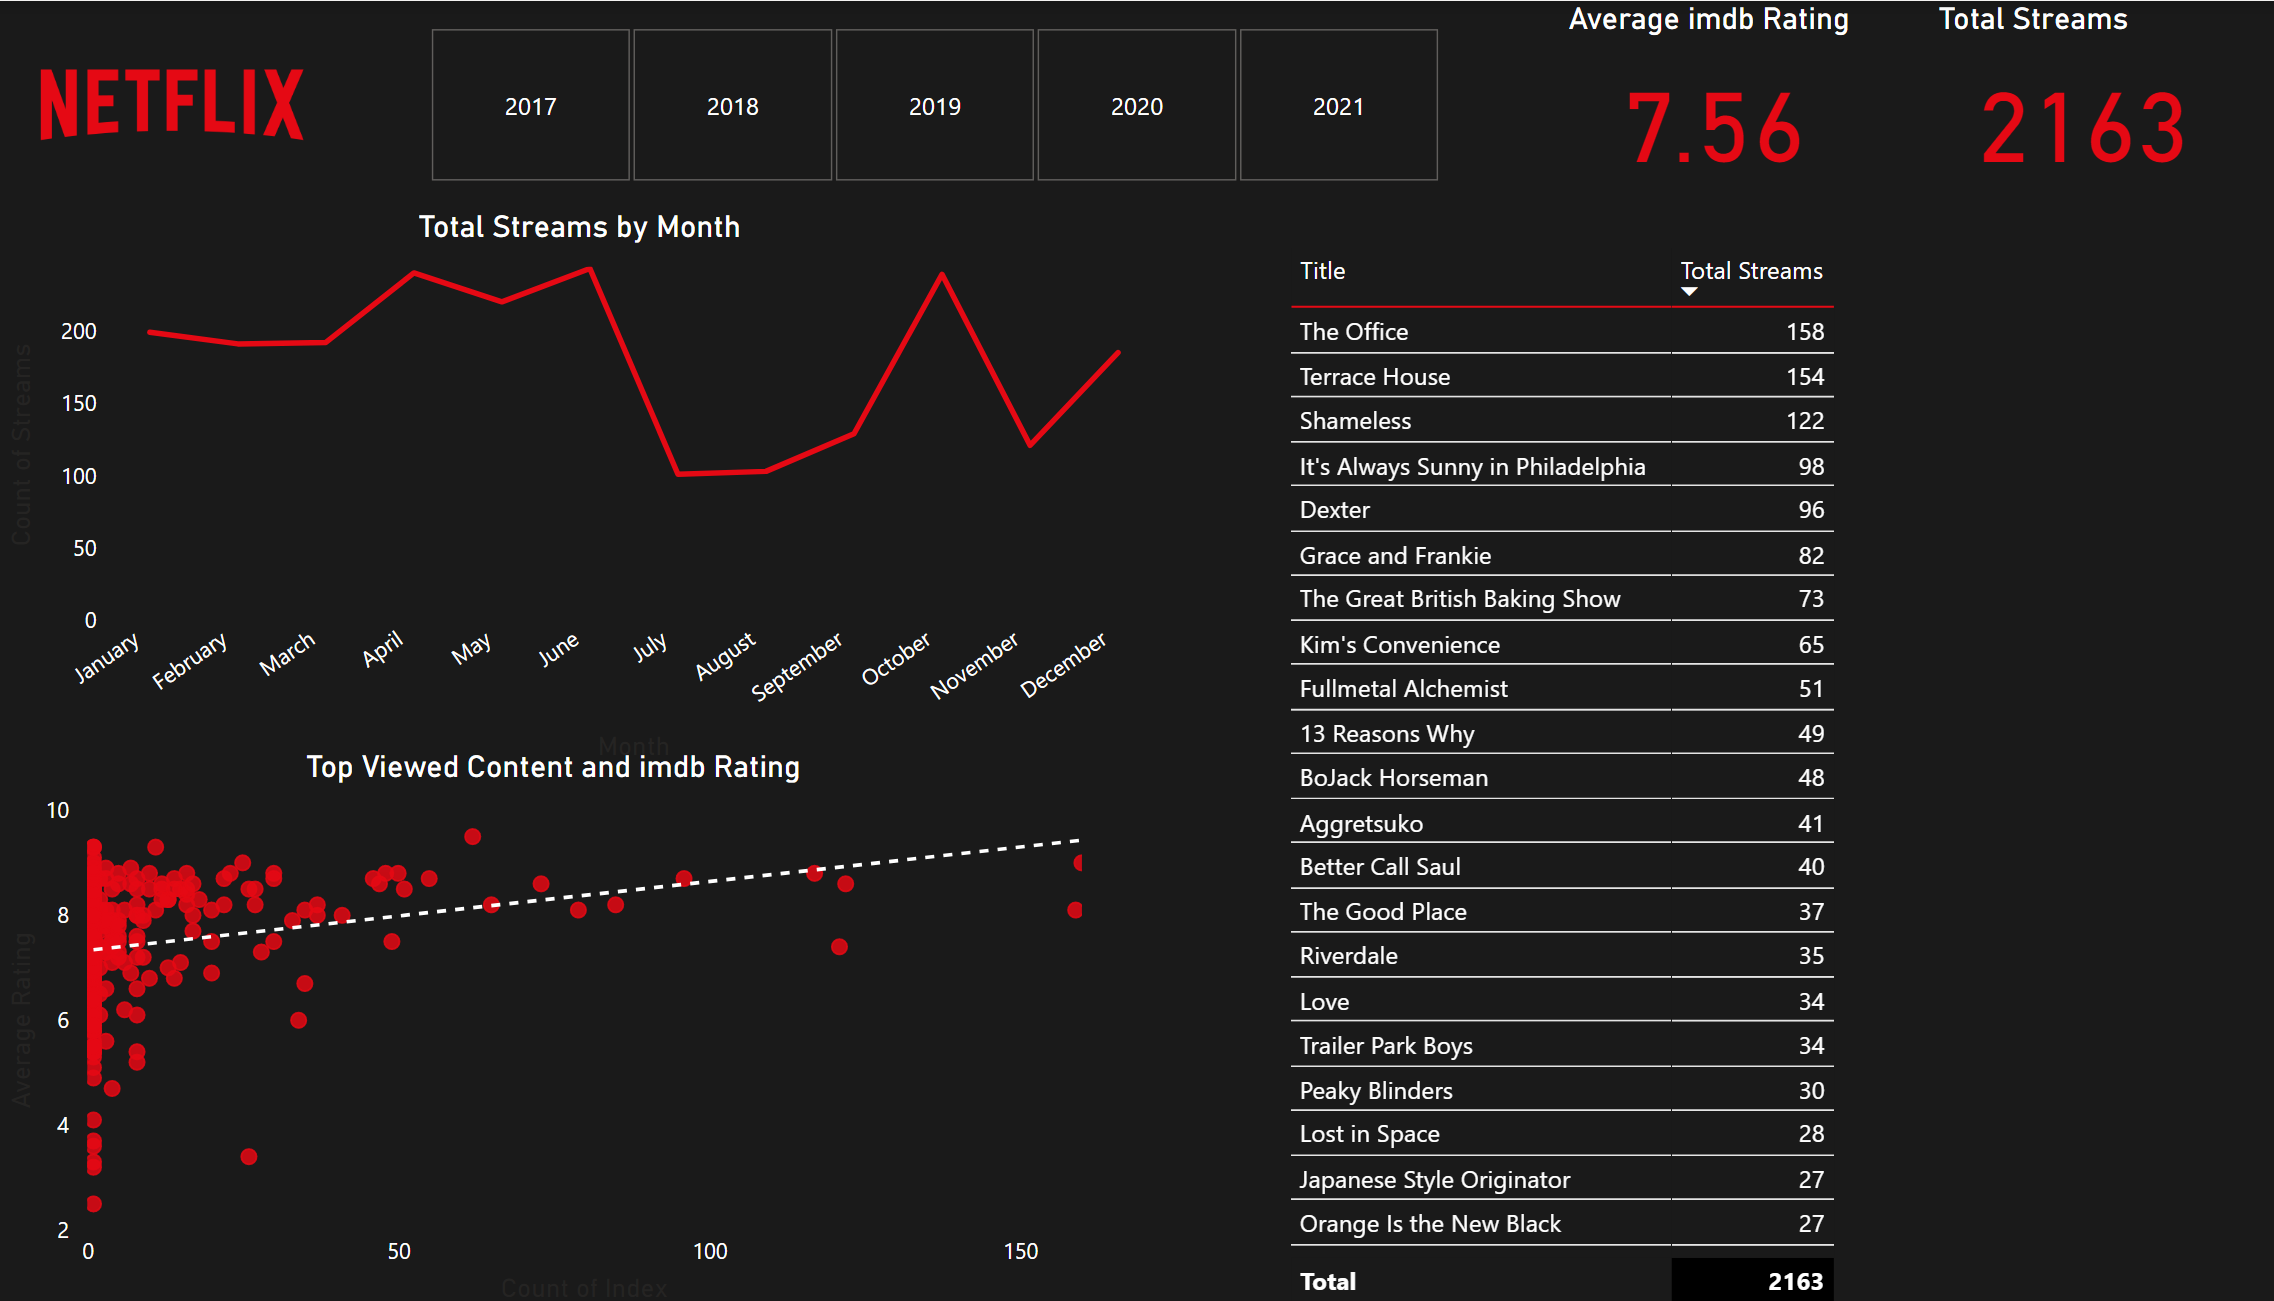

The dashboard page shown, as its layout file describes it:
{"tool":"powerbi","page":{"name":"Summary","canvas":[1280,720],"ordinal":1},"visuals":[{"type":"scatterChart","title":"Count of Streams by Year","fields":{"X":["Netflix Rating Output.Index"],"Y":["Netflix Rating Output.Average Rating"],"Category":["Netflix Rating Output.Title"]},"box":[0,410.6,611.2,309],"z":0},{"type":"image","box":[0,0,192,114],"z":1000},{"type":"lineChart","title":"Total Streams by Month","fields":{"Y":["Count(Netflix Rating Output.Index)"],"Category":["Netflix Rating Output.Date.Variation.Date Hierarchy.Month"]},"box":[0,114,640,307.6],"z":2000},{"type":"card","title":"Total Streams","fields":{"Values":["Netflix Rating Output.Average Rating"]},"box":[815.8,0,168.9,105.8],"z":4000},{"type":"pivotTable","fields":{"Rows":["Netflix Rating Output.Title"],"Values":["Count(Netflix Rating Output.Index)"]},"box":[705.9,130.5,560.3,589.2],"z":4002},{"type":"slicer","title":"Total Streams","fields":{"Values":["Netflix Rating Output.Date.Variation.Date Hierarchy.Year"]},"box":[212.9,8.2,602.9,97.5],"z":4003},{"type":"card","title":"Total Streams","fields":{"Values":["Count(Netflix Rating Output.Index)"]},"box":[984.7,0,168.9,105.8],"z":4004}]}

Visuals, with their boxes in screenshot pixels (x1, y1, x2, y2), scaled from the page's 1280x720 canvas onto the 2274x1301 screenshot:
"Count of Streams by Year" scatterChart: BBox(0, 742, 1086, 1300)
image: BBox(0, 0, 341, 206)
"Total Streams by Month" lineChart: BBox(0, 206, 1137, 762)
"Total Streams" card: BBox(1449, 0, 1749, 191)
pivotTable - Netflix Rating Output.Title x Count(Netflix Rating Output.Index): BBox(1254, 236, 2249, 1300)
"Total Streams" slicer: BBox(378, 15, 1449, 191)
"Total Streams" card: BBox(1749, 0, 2049, 191)
